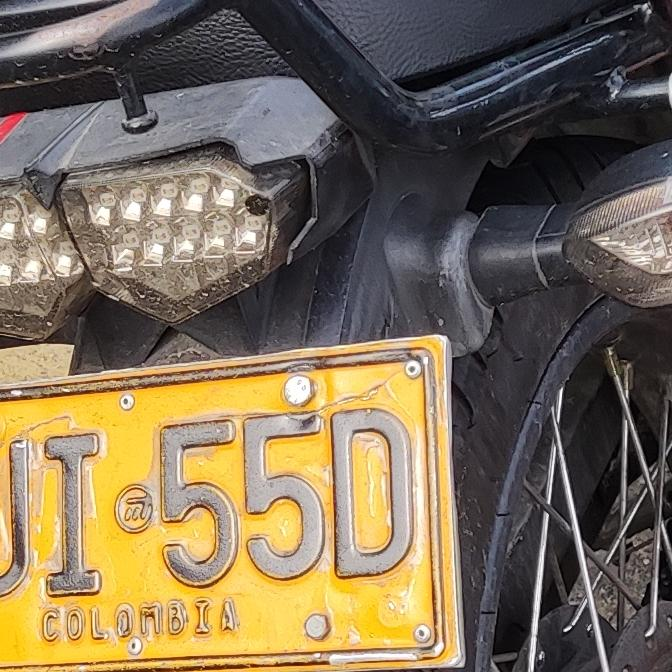plates: (0, 354, 451, 672)
